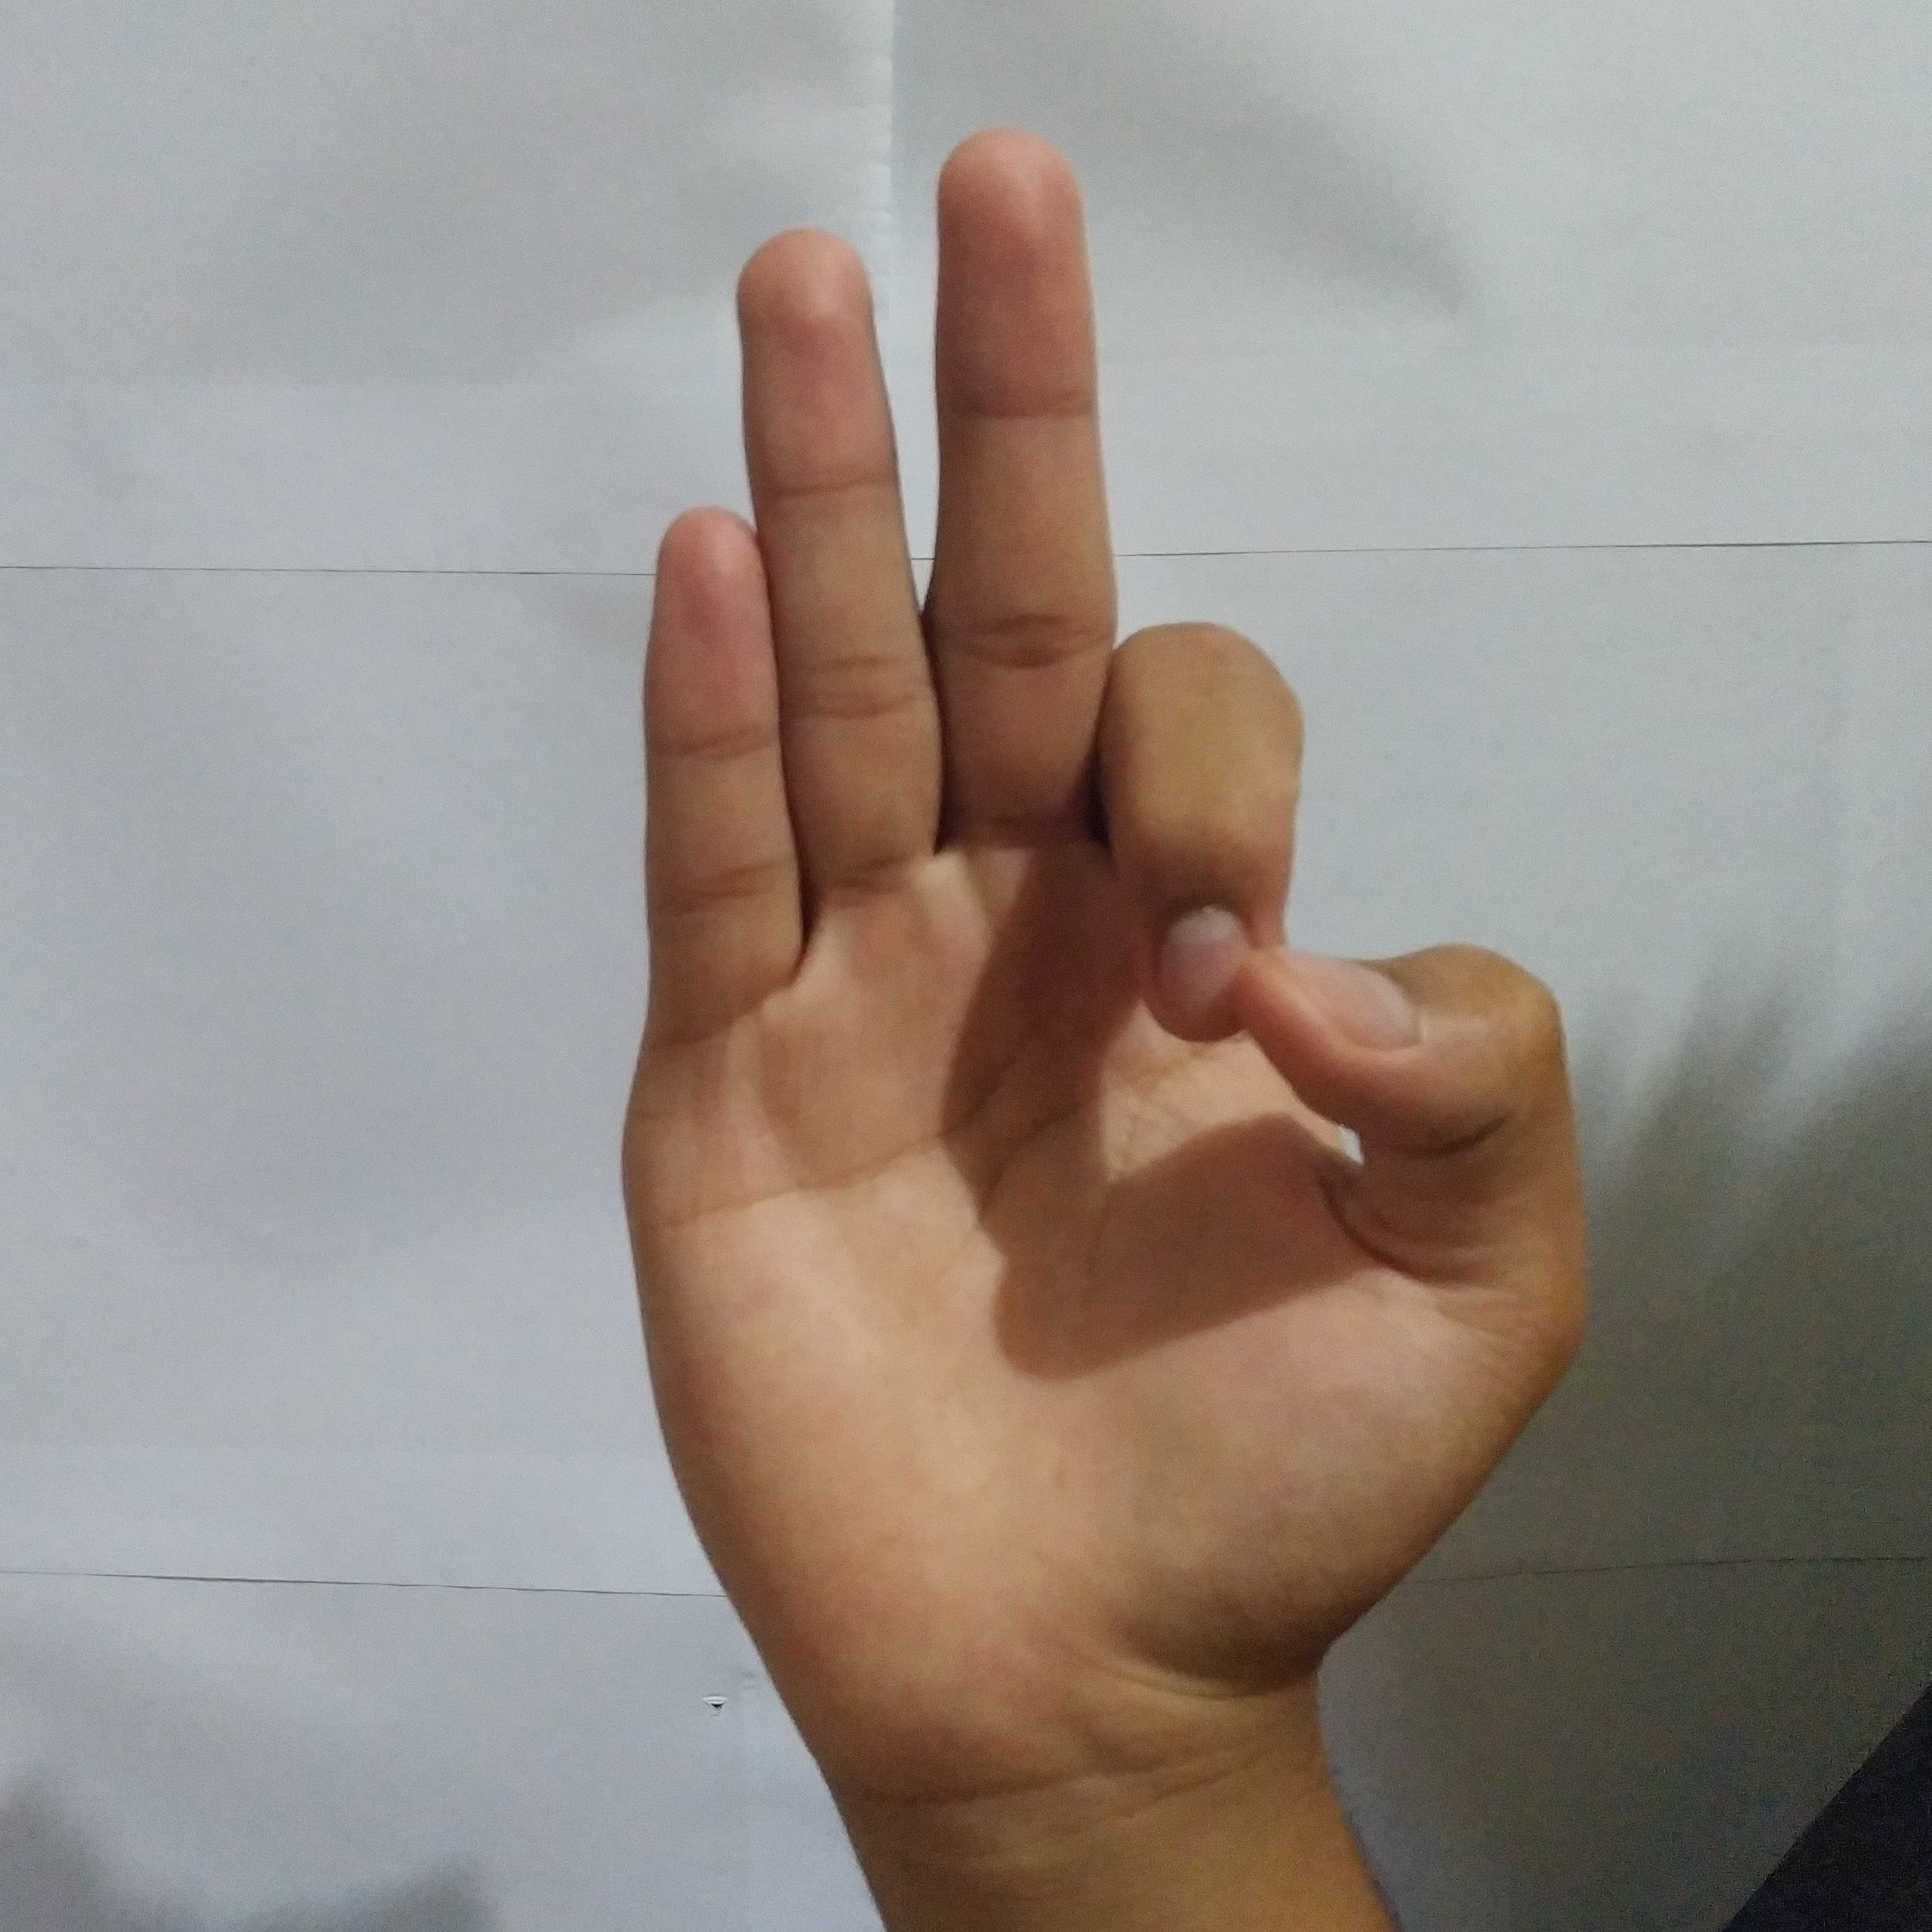F: (594, 108, 1621, 1698)
